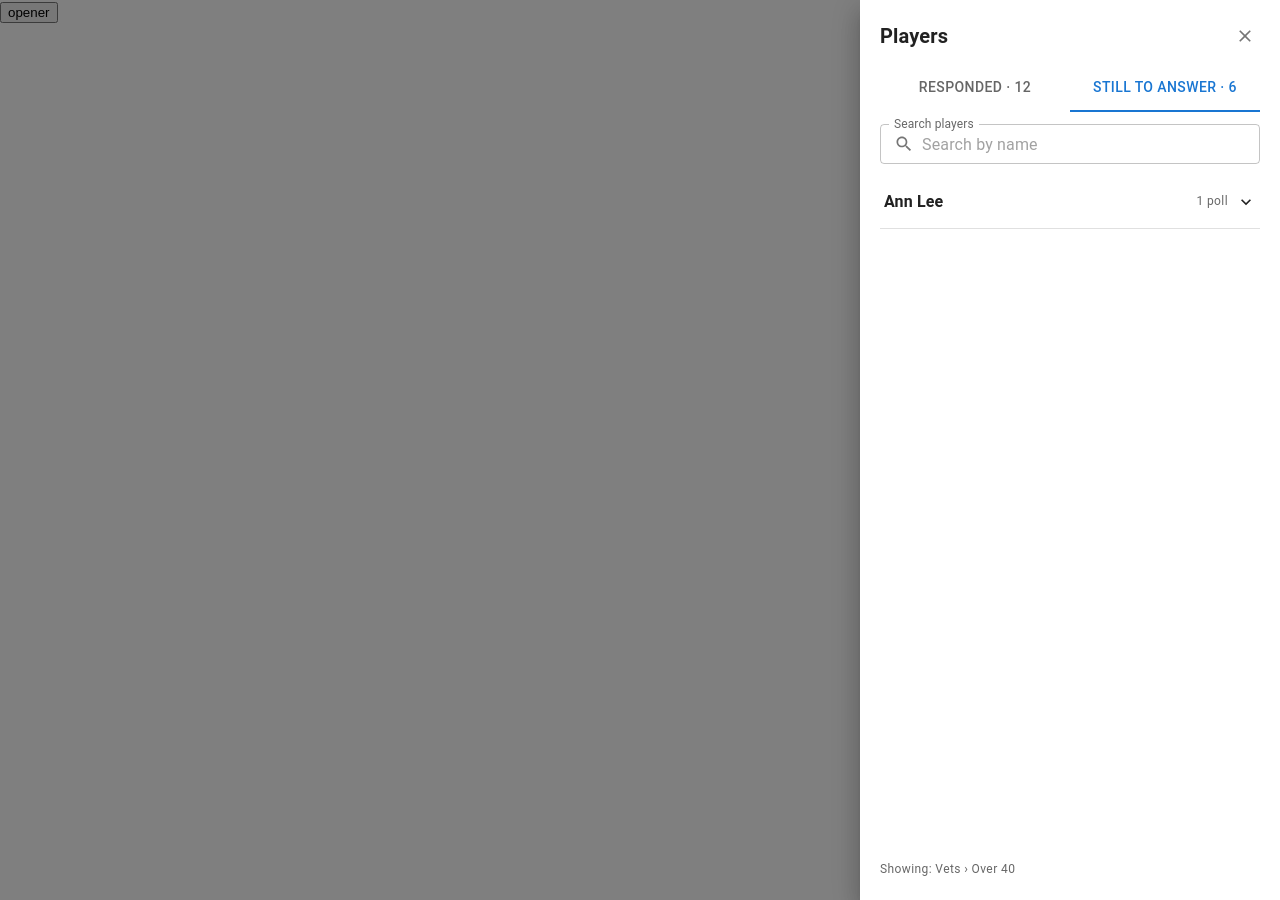
Scenario: PlayersPanel (084) › says no players match when a search finds nobody
The image size is (1280, 900).
Expected: the text "Ann Lee" is shown, left=884, top=192, right=943, bottom=211
Step 1. Type "zz" into the field labelled "Search players" → (1091, 144), box left=922, top=124, right=1260, bottom=164
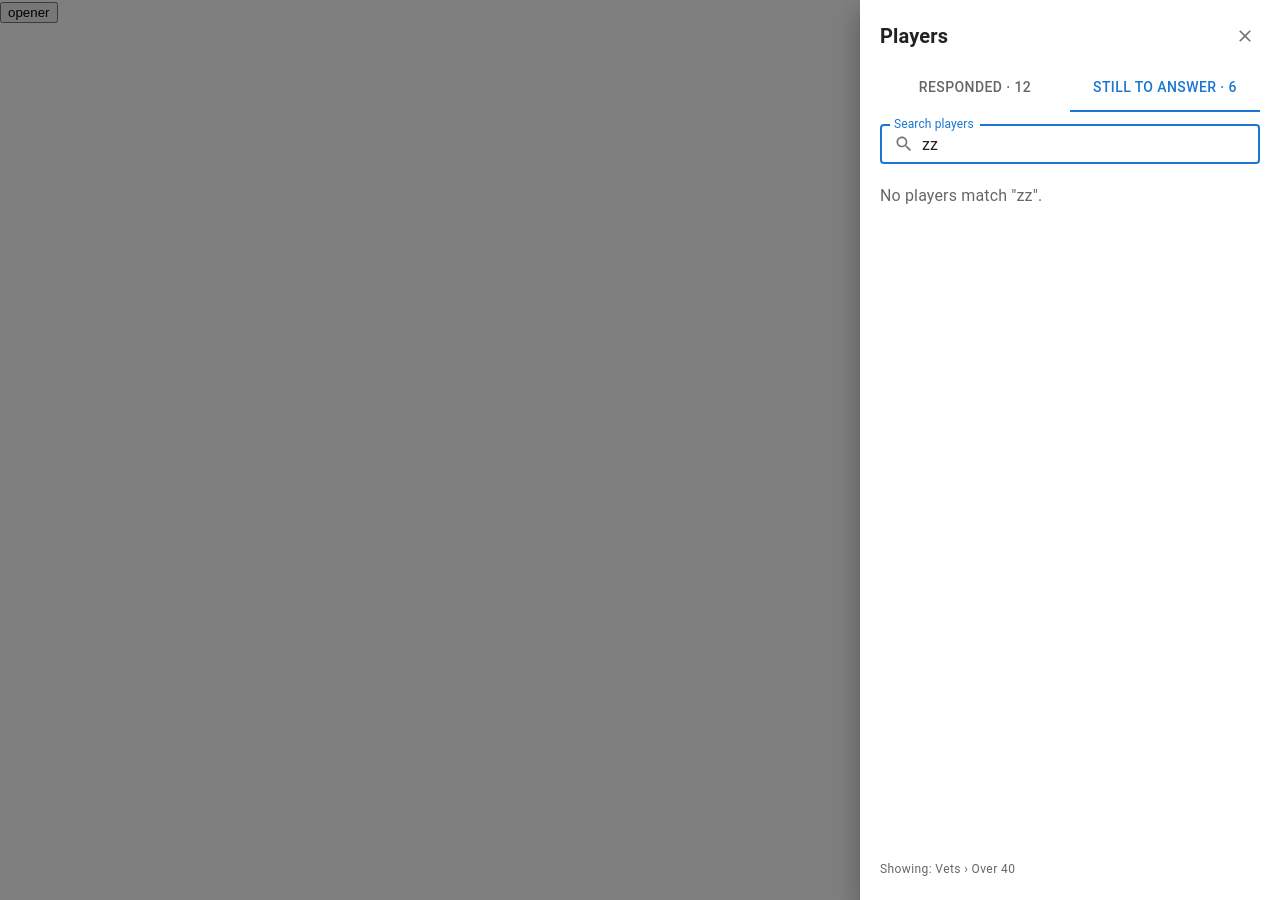
Result: the text "No players match \"zz\"." is shown at left=880, top=186, right=1042, bottom=205
